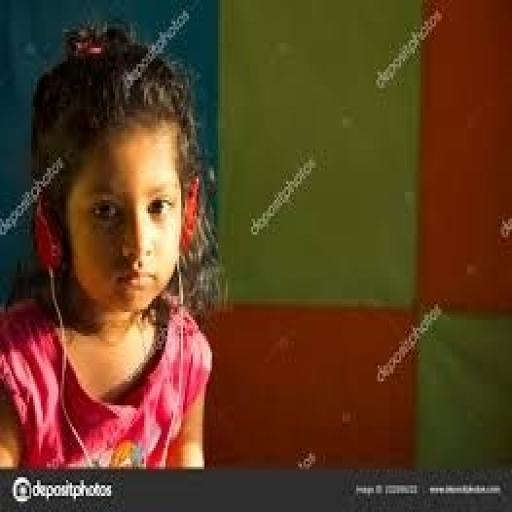listening_to_music: (0, 21, 222, 472)
